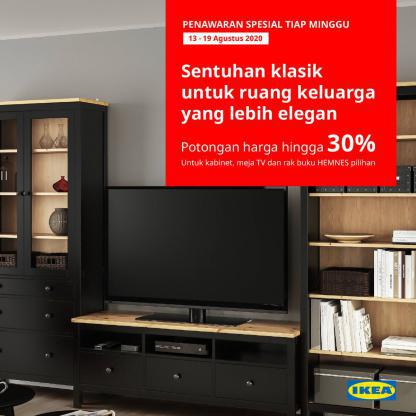buku: (322, 302, 376, 356), (371, 250, 416, 300)
meja: (73, 311, 309, 416)
tv: (108, 189, 293, 316)
